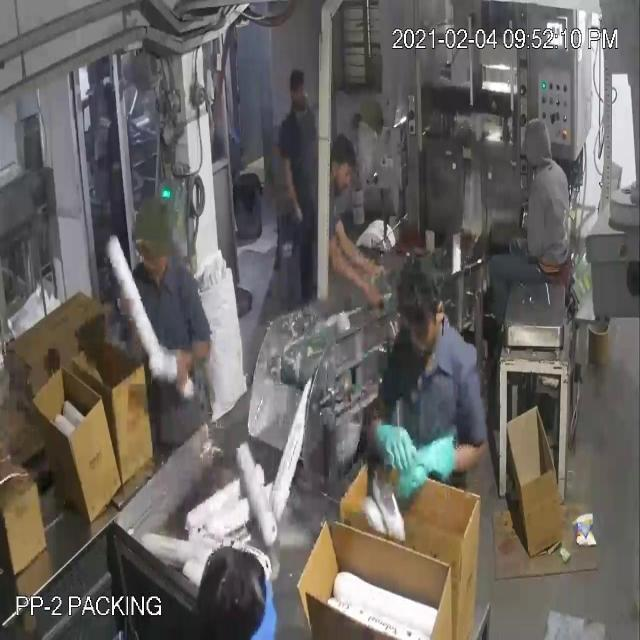No_Gloves: (34, 67, 434, 461)
